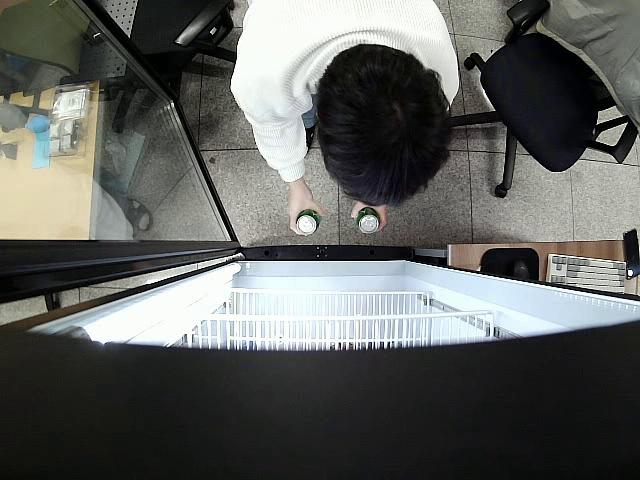00_hand: (286, 180, 324, 239), (349, 198, 389, 236)
12_chilsungCider: (296, 208, 322, 237), (354, 208, 381, 233)
